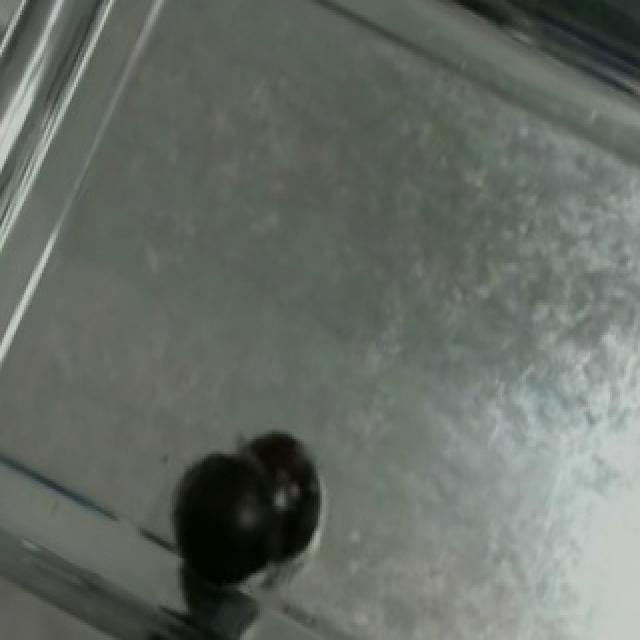Fruit: (156, 427, 332, 605)
